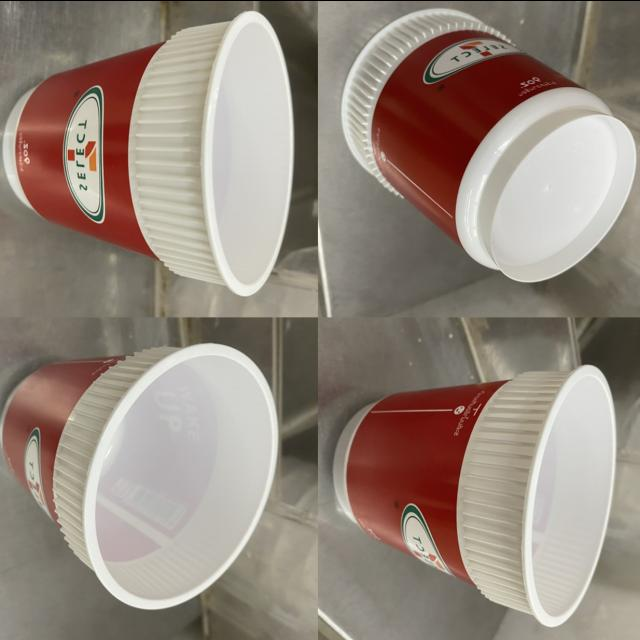plastik: (3, 10, 293, 294), (343, 8, 636, 281), (333, 364, 616, 626), (0, 342, 278, 608)
